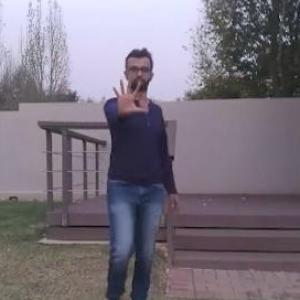follow_hand: (108, 74, 151, 118)
